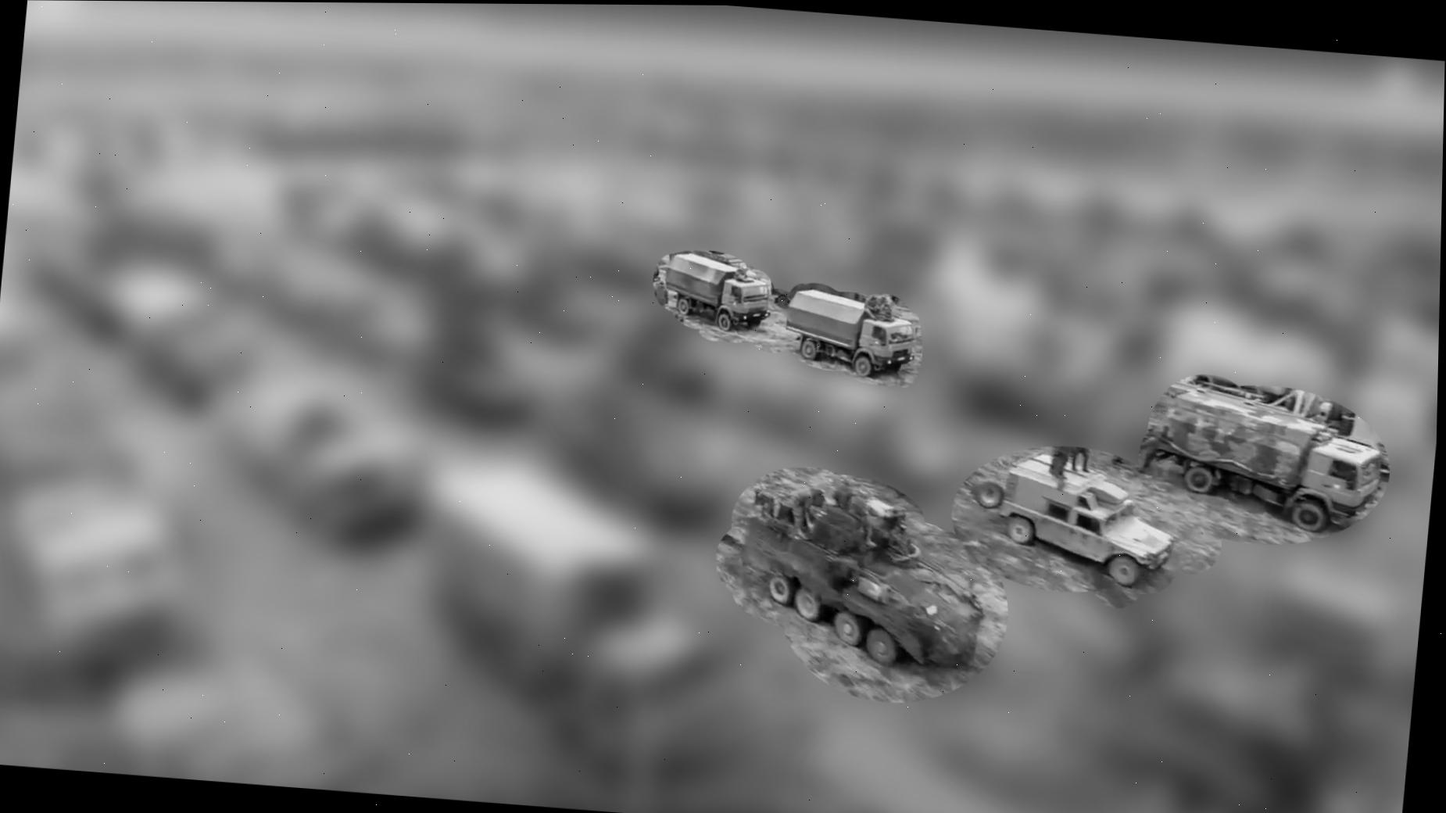armored_car: (731, 478, 997, 677), (986, 442, 1185, 590)
truck: (1150, 372, 1398, 538), (781, 283, 924, 382), (656, 245, 781, 335)
